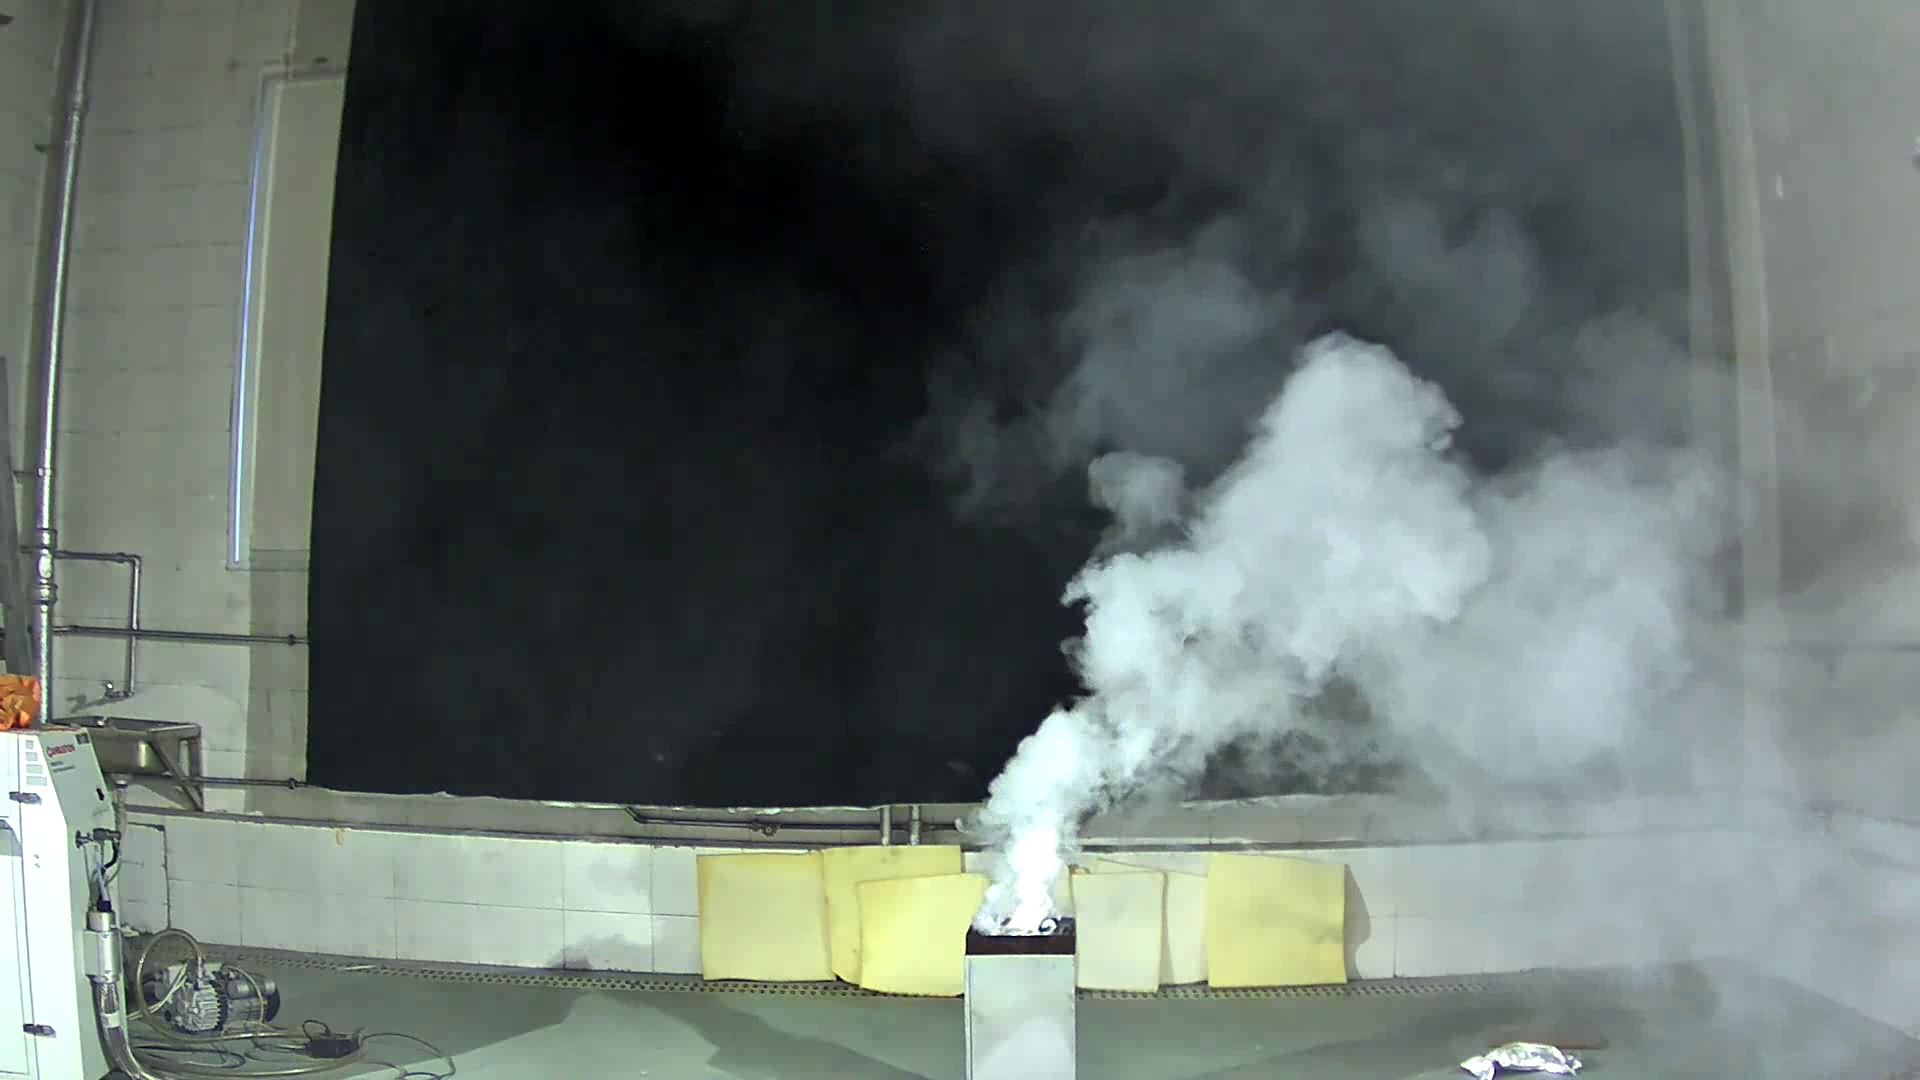smoke: (919, 220, 1731, 928)
